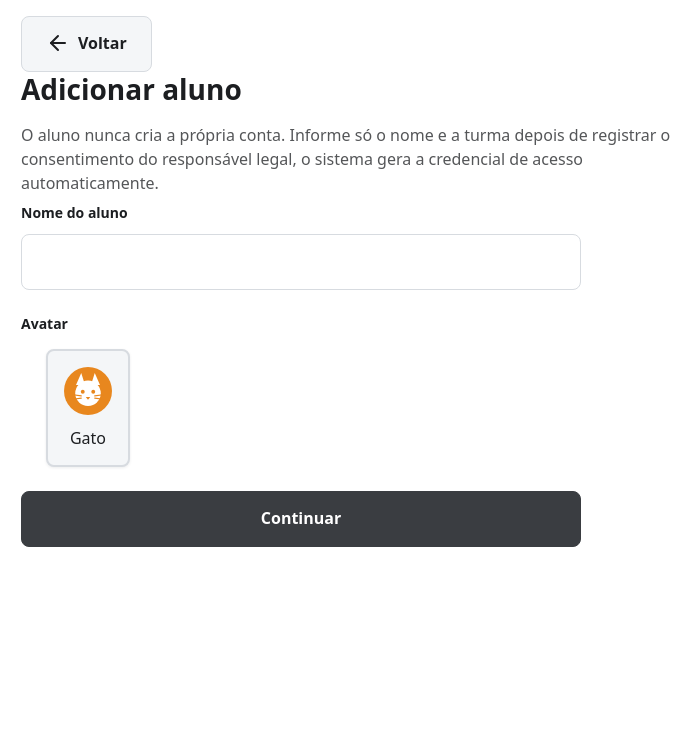
Scenario: TeacherAddStudent - passo 2 (responsável legal, A2) › AC2 - registers the consent (with explicit accept) and only then receives the credential
In the field labelled "Nome do aluno": (301, 262) [21,234,581,290], type "Aluno Teste"
Click the button "Continuar": click(301, 519) [21,491,581,547]
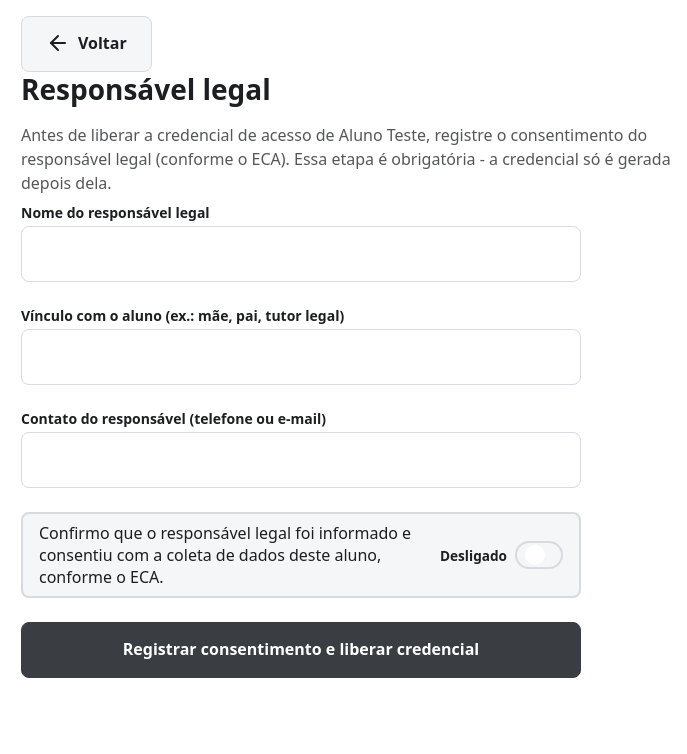
In the field labelled "Nome do responsável legal": (301, 254) [21,226,581,282], type "Maria Silva"
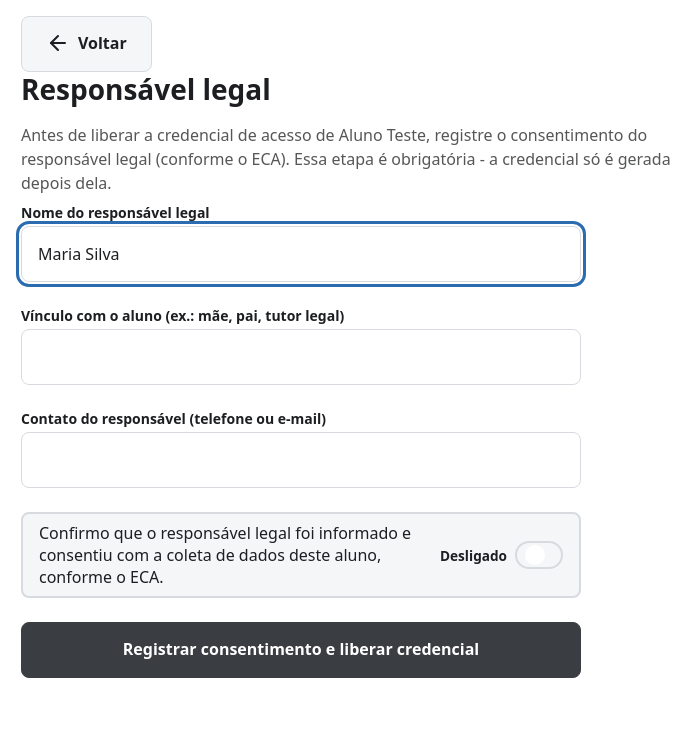
In the field labelled "Vínculo com o aluno (ex.: mãe, pai, tutor legal)": (301, 357) [21,329,581,385], type "Mãe"
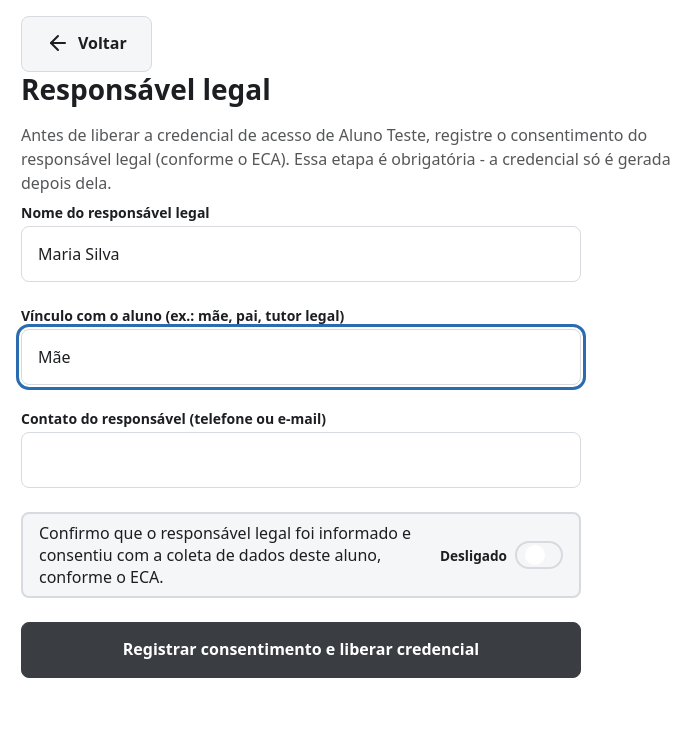
In the field labelled "Contato do responsável (telefone ou e-mail)": (301, 460) [21,432,581,488], type "11999990000"
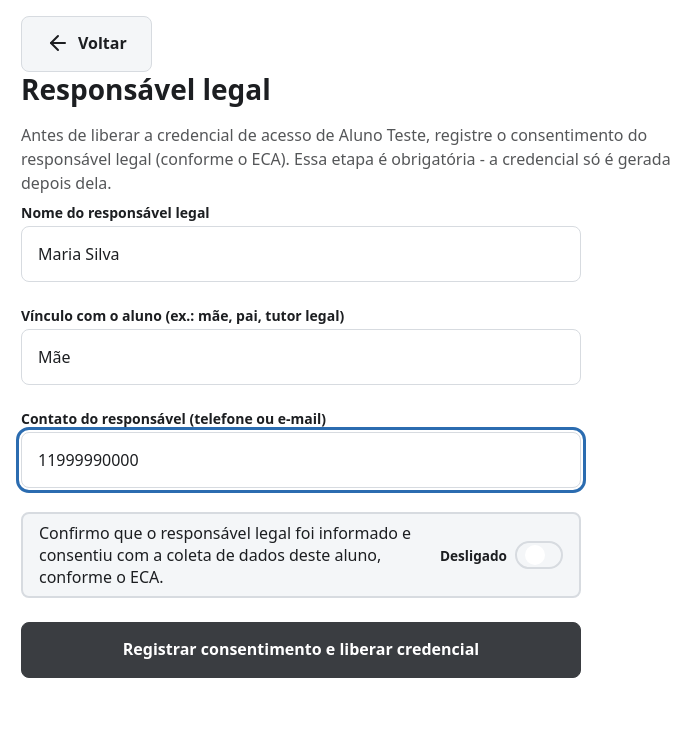
Click the switch: click(539, 555) [515,541,563,569]
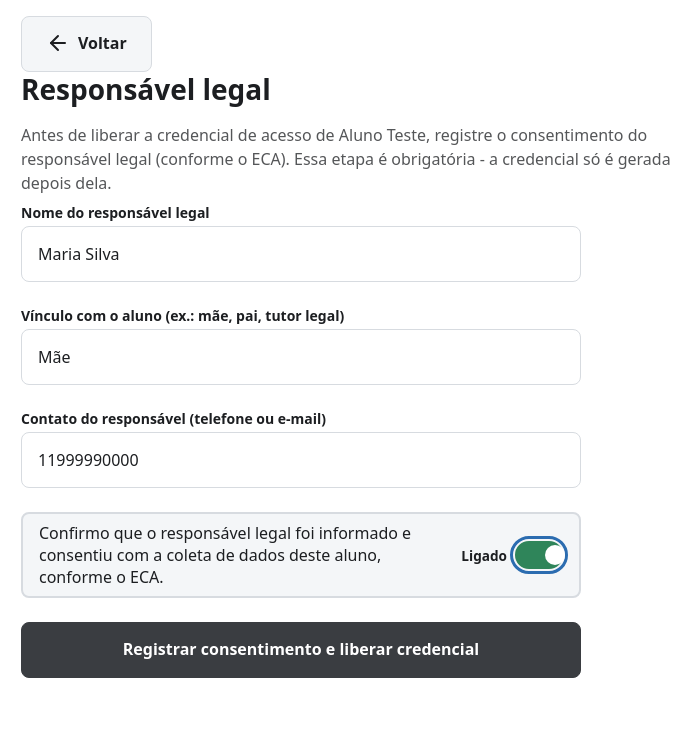
Click the button "Registrar consentimento e liberar credencial": click(301, 650) [21,622,581,678]
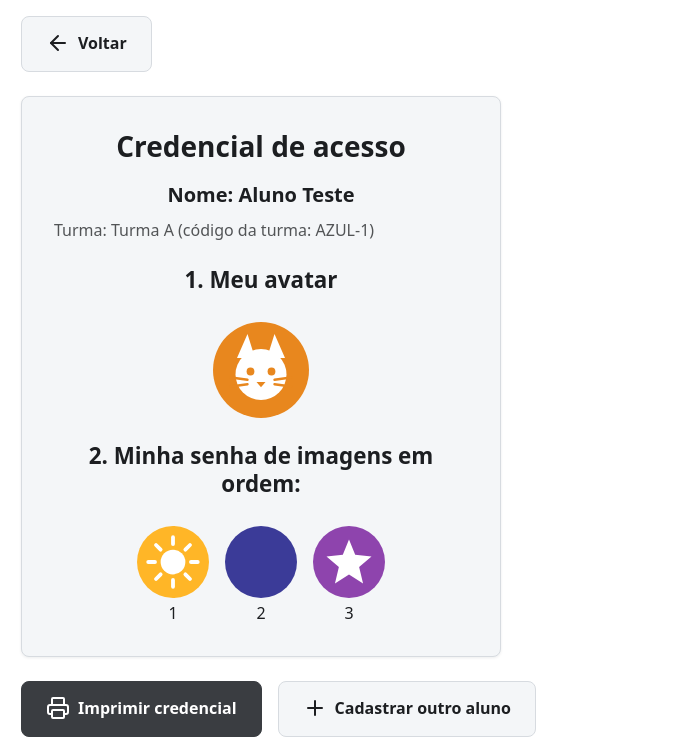
Expected: the heading "Credencial de acesso" is shown, [116,127,406,165]
